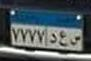7: (11, 26, 20, 41), (37, 30, 45, 45), (29, 28, 36, 44), (21, 28, 28, 43)
ain: (59, 30, 68, 48)
daal: (49, 33, 57, 45)
seen: (69, 34, 80, 48)
